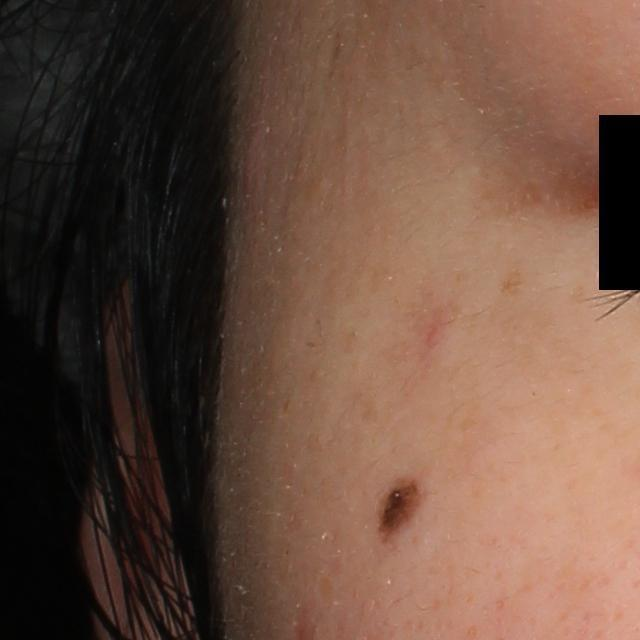nevus: (372, 477, 427, 541)
